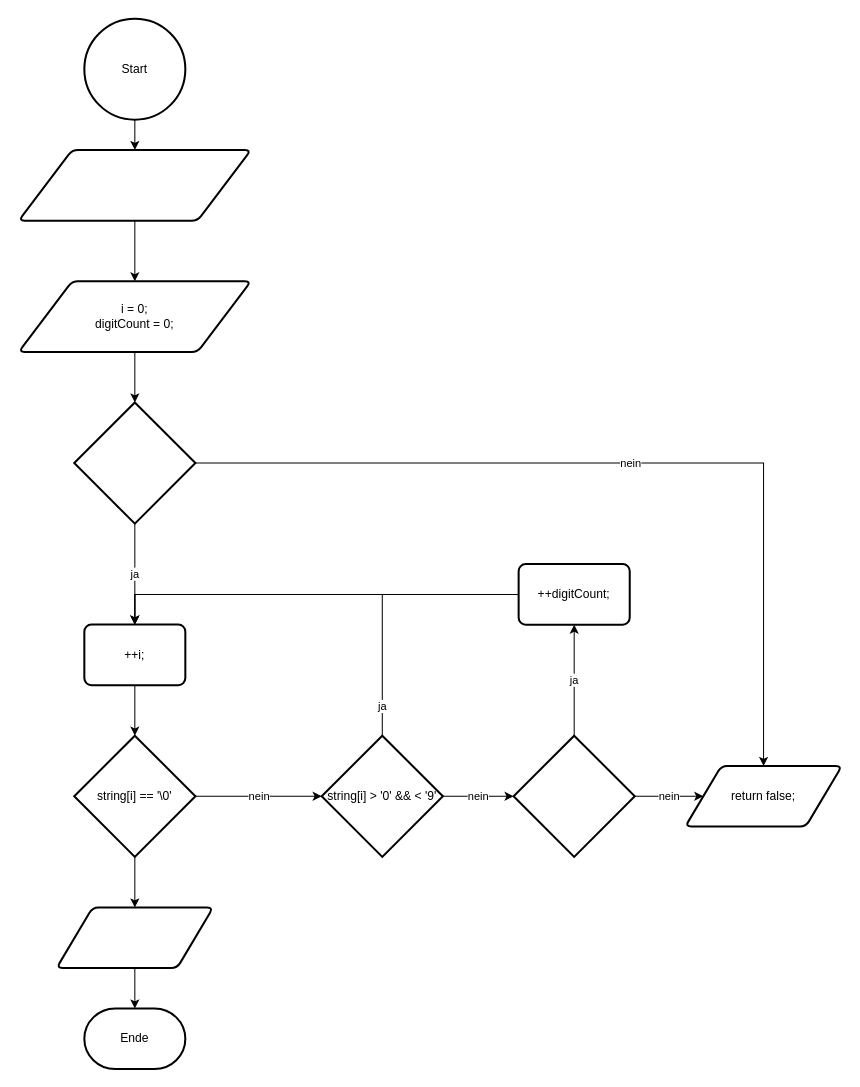
This 860x1087 diagram has some shape labels left out. Each missing label, with the centre of its shape:
"return true;" belongs at pixel 134 937.
"string[0] == '+' || '-' || >= '0' && <= '9'" belongs at pixel 134 462.
"string[i] == '.' || ',' && digitCount == 0" belongs at pixel 573 795.
"Zeichenkette eingeben string = eingabe" belongs at pixel 134 184.
